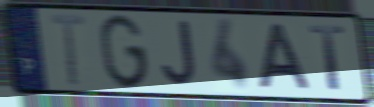4: (208, 15, 253, 96)
A: (255, 22, 314, 93)
G: (98, 12, 150, 92)
J: (159, 18, 198, 89)
T: (47, 12, 88, 89), (307, 24, 349, 93)
